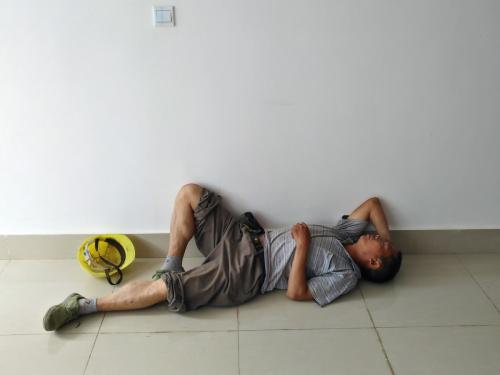fall: (39, 167, 407, 331)
